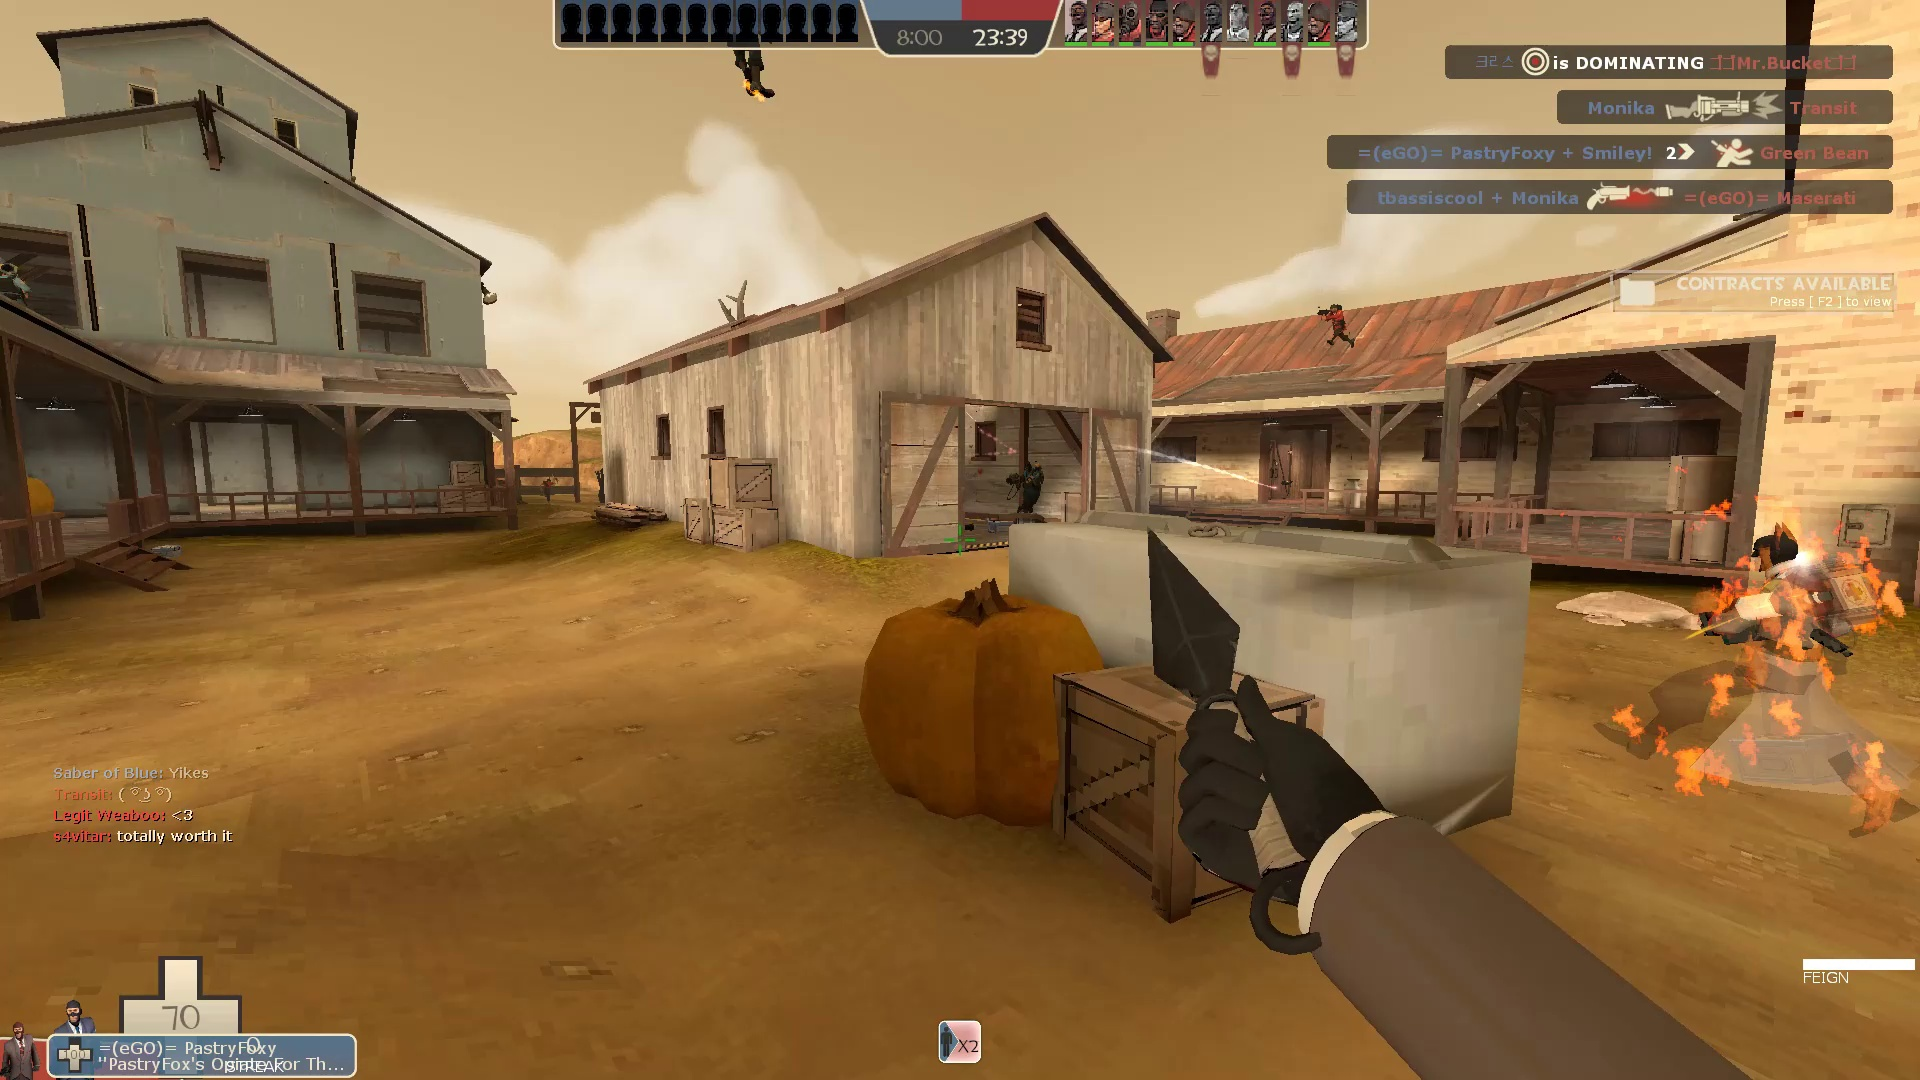blu_pyro: (1004, 454, 1050, 529)
red_soldier: (1315, 301, 1354, 357)
